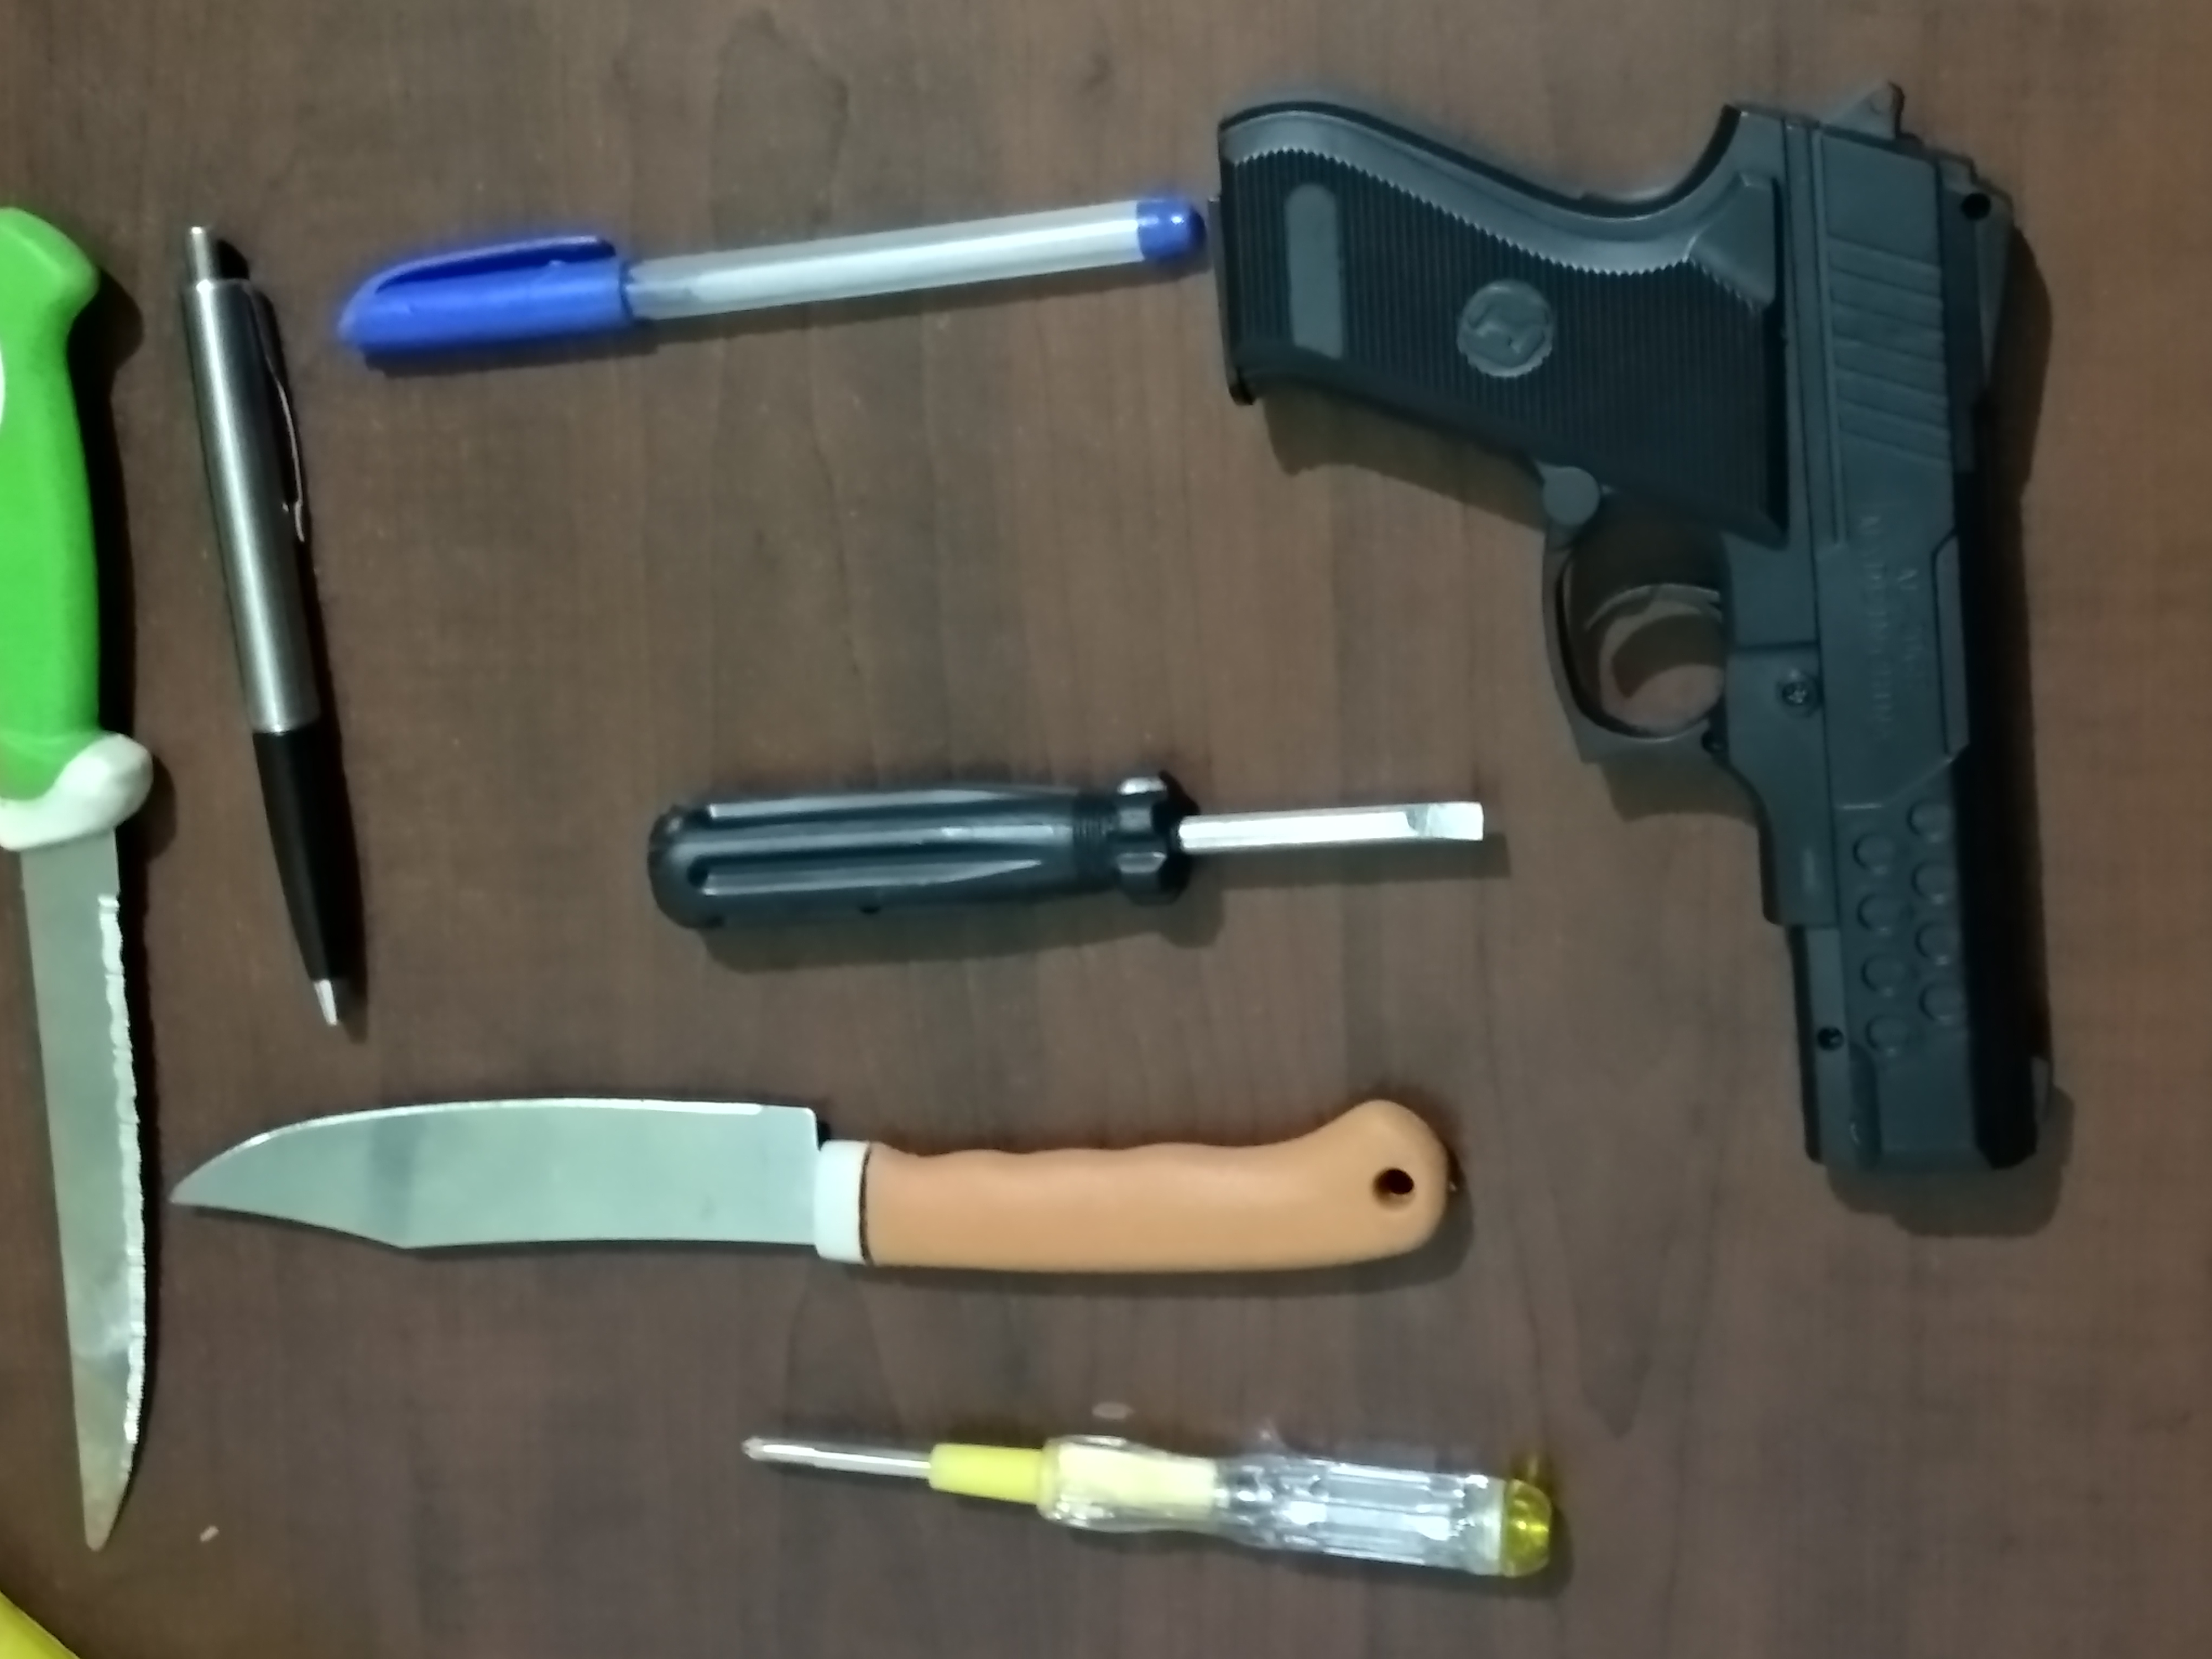gun: (1211, 70, 2057, 1195)
knife: (155, 1075, 1460, 1342), (0, 176, 169, 1575)
none: (157, 211, 421, 1042), (315, 188, 1207, 397)
none3: (700, 1371, 1609, 1596), (634, 762, 1489, 978)
